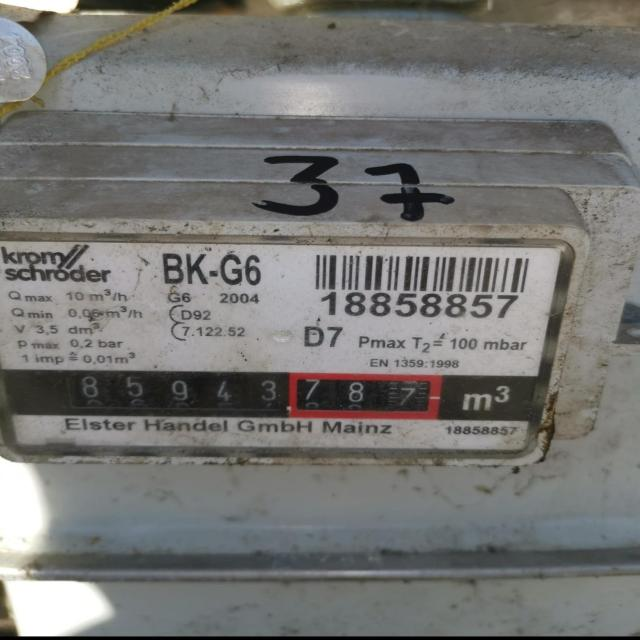gaz_meter: (1, 232, 563, 464)
indication: (6, 370, 442, 419)
